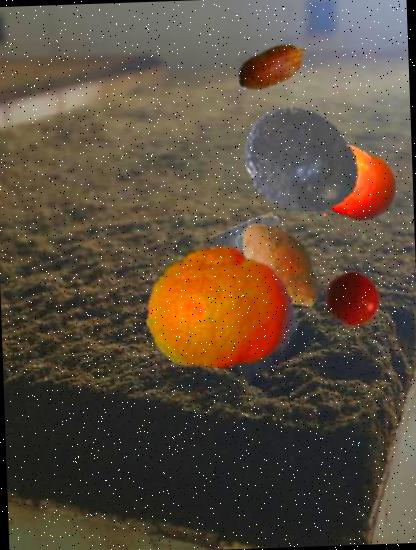Avocado: (238, 100, 362, 224)
Clementine: (302, 141, 380, 219)
Grapefruit: (318, 146, 399, 227)
Mandarine: (142, 231, 296, 384)
Nut: (235, 27, 314, 106)
Potato: (226, 210, 336, 320)
Tomato: (323, 270, 382, 329)
